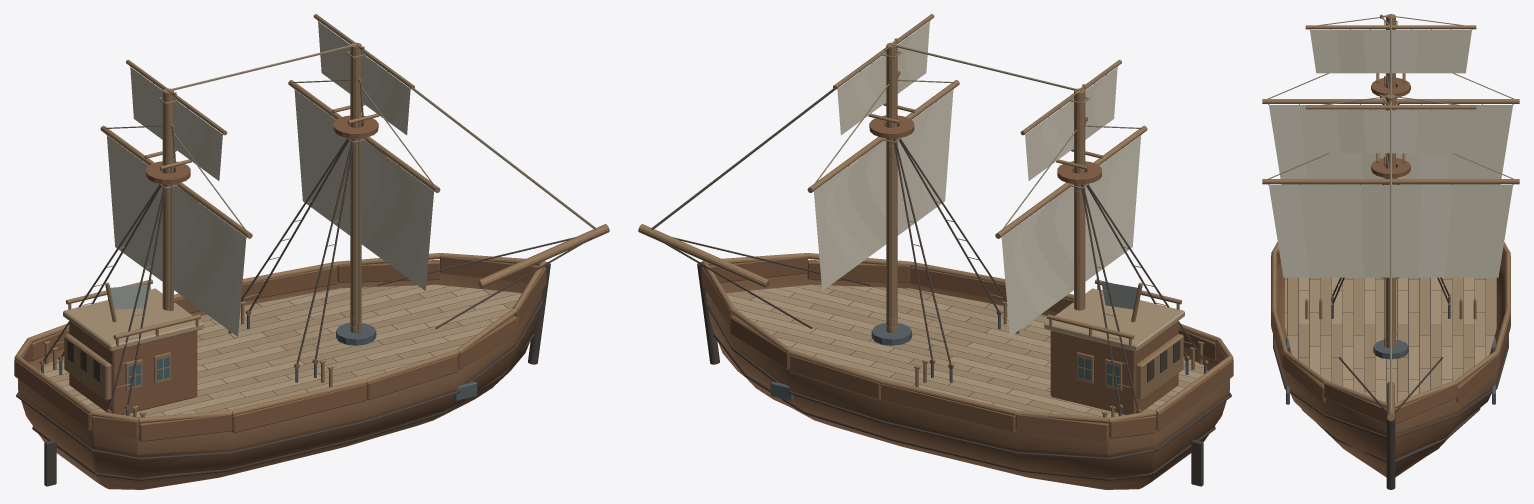
The model's file is carrier.glb.
3 views of the same model, side by side, from view 1: azimuth 30°, elevation 25°; view 2: azimuth 150°, elevation 25°; view 3: azimuth 270°, elevation 25° (orthographic). The views are drawn at different scales.
Visible parts, largest first — view 1: Hull, Sail_mast1_main, Sail_mast0_main, Sail_mast0_topsail, Sail_mast1_topsail, Rig_mast0, Rig_mast1, OwnerFlag; view 2: Hull, Sail_mast1_main, Sail_mast0_main, Sail_mast0_topsail, Sail_mast1_topsail, Rig_mast1, Rig_mast0, OwnerFlag; view 3: Hull, Sail_mast1_main, Sail_mast0_main, Sail_mast1_topsail, Sail_mast0_topsail, Rig_mast1, Rig_mast0.
Part boxes in pixels (x1,y1,x2,y2): Hull: (14,42,609,489); Sail_mast1_main: (294,90,433,290); Sail_mast0_main: (107,135,246,336); Sail_mast0_topsail: (130,67,222,180); Sail_mast1_topsail: (318,21,410,135); Rig_mast0: (100,59,252,238); Rig_mast1: (288,14,440,192); OwnerFlag: (110,284,150,309); Hull: (638,42,1233,489); Sail_mast1_main: (814,90,953,290); Sail_mast0_main: (1001,135,1140,336); Sail_mast0_topsail: (1025,67,1117,180); Sail_mast1_topsail: (837,21,929,135); Rig_mast1: (807,14,959,192); Rig_mast0: (995,59,1147,238); OwnerFlag: (1101,281,1137,309); Hull: (1271,14,1510,489); Sail_mast1_main: (1269,185,1512,277); Sail_mast0_main: (1269,105,1512,184); Sail_mast1_topsail: (1310,110,1471,153); Sail_mast0_topsail: (1310,30,1471,73); Rig_mast1: (1262,94,1519,184); Rig_mast0: (1262,14,1519,104).
Size of the model in its own units: 258 by 161 by 117.
